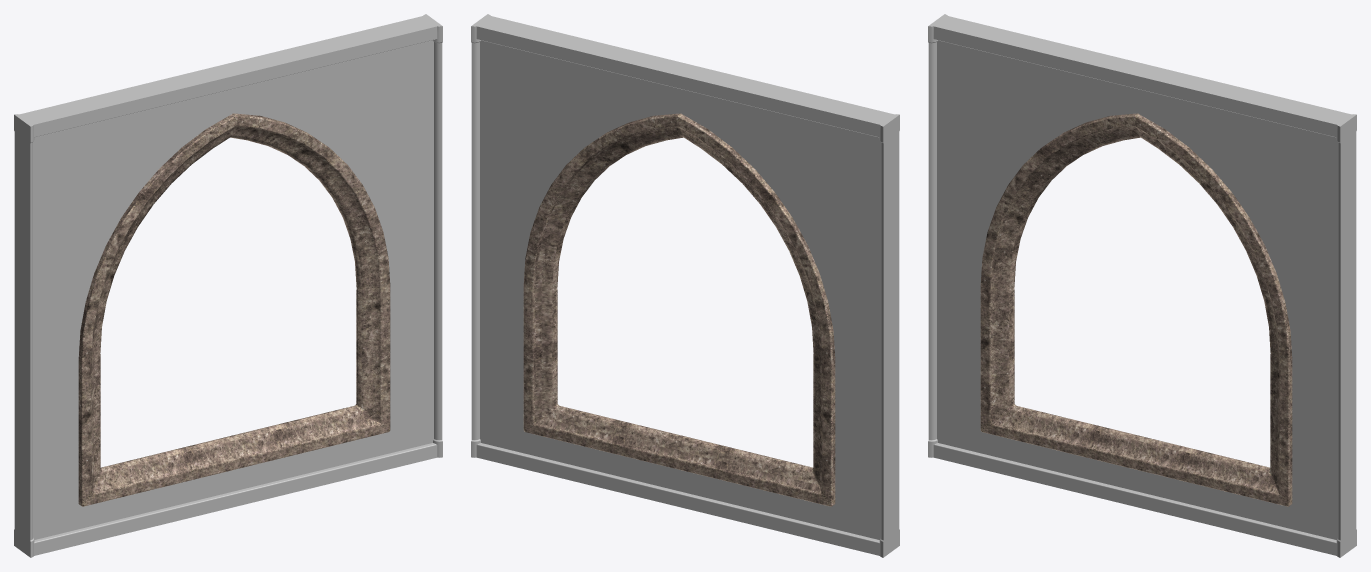
Rendered from Wand_Fenster_Groß_8m.gltf.
3 views of the same model, side by side, from view 1: azimuth 30°, elevation 25°; view 2: azimuth 150°, elevation 25°; view 3: azimuth 330°, elevation 25° (orthographic).
Visible parts, largest first — view 1: Wand_Fenster_Groß_8m; view 2: Wand_Fenster_Groß_8m; view 3: Wand_Fenster_Groß_8m.
Boxes of the visible parts, x1=… form: Wand_Fenster_Groß_8m: x1=14, y1=14, x2=442, y2=557; Wand_Fenster_Groß_8m: x1=471, y1=14, x2=899, y2=557; Wand_Fenster_Groß_8m: x1=928, y1=14, x2=1356, y2=557.
Size of the model in its own units: 8 by 8 by 0.56.
